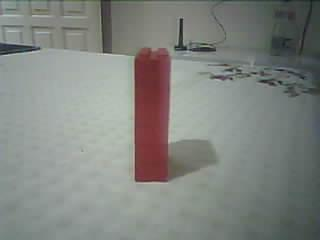lego: (133, 46, 172, 182)
